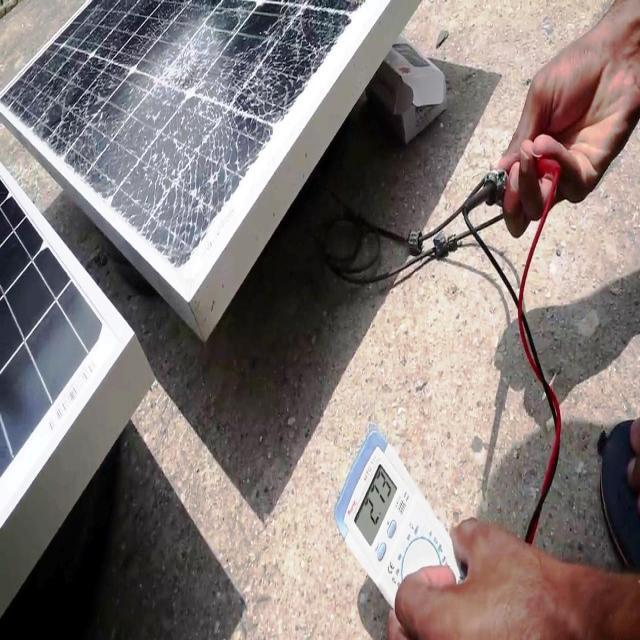faulty: (1, 4, 401, 285)
